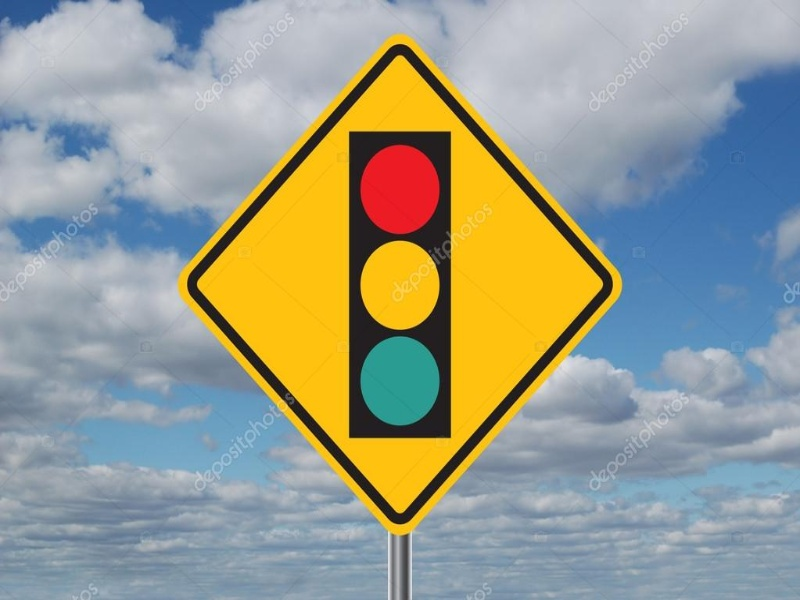traffic signal sign: (173, 30, 624, 540)
